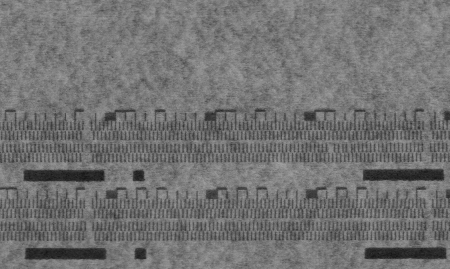Broken hole: (325, 142, 338, 153)
